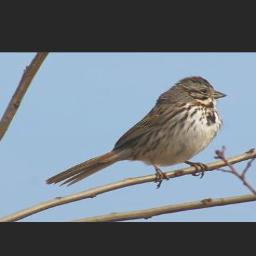Sparrow: (43, 75, 228, 188)
